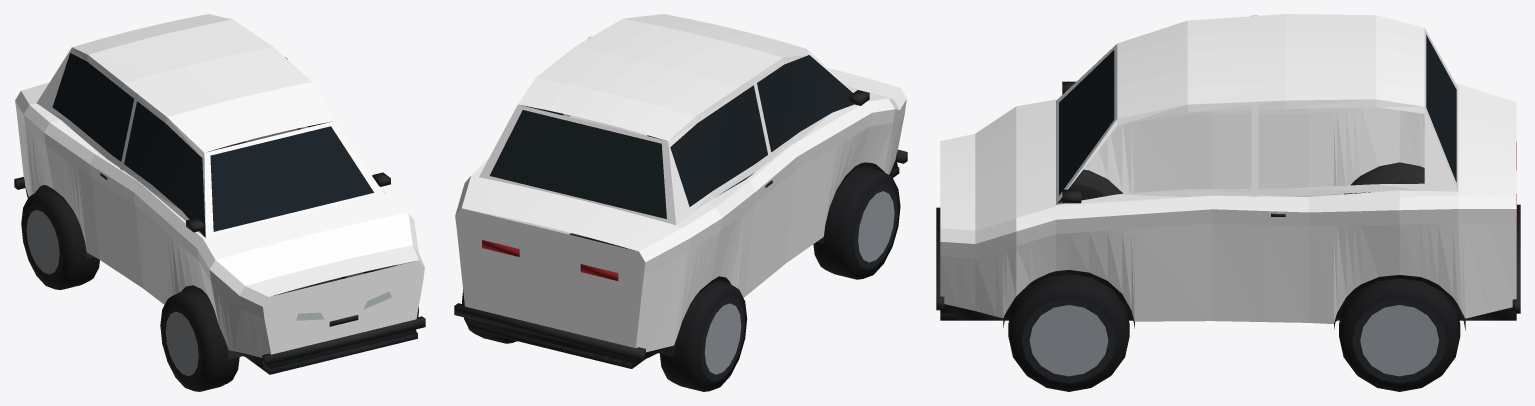
The model's file is halberton_torrao.glb.
The picture shows the model from 3 angles, left to right: view 1: azimuth 30°, elevation 25°; view 2: azimuth 150°, elevation 25°; view 3: azimuth 270°, elevation 25°; orthographic projection. The views are drawn at different scales.
Parts seen in each view (by area): view 1: Body_Paint, Body_Details, Mount_FrontLeft_Wheel_Details, Mount_RearLeft_Wheel_Details; view 2: Body_Paint, Body_Details, Mount_FrontLeft_Wheel_Details, Mount_RearLeft_Wheel_Details; view 3: Body_Paint, Body_Details, Mount_FrontRight_Wheel_Details, Mount_RearRight_Wheel_Details.
Boxes of the visible parts, box(x1,y1,x2,y2) form: Body_Paint: box(15, 14, 424, 357); Body_Details: box(14, 53, 425, 374); Mount_FrontLeft_Wheel_Details: box(160, 289, 239, 391); Mount_RearLeft_Wheel_Details: box(21, 189, 99, 289); Body_Paint: box(455, 14, 906, 352); Body_Details: box(454, 55, 907, 368); Mount_FrontLeft_Wheel_Details: box(813, 166, 900, 279); Mount_RearLeft_Wheel_Details: box(659, 280, 747, 391); Body_Paint: box(940, 14, 1516, 323); Body_Details: box(936, 35, 1520, 330); Mount_FrontRight_Wheel_Details: box(1008, 274, 1129, 391); Mount_RearRight_Wheel_Details: box(1339, 278, 1460, 391).
Size of the model in its own units: 2.02 by 2.1 by 3.99.
2 materials, 1 textured.
